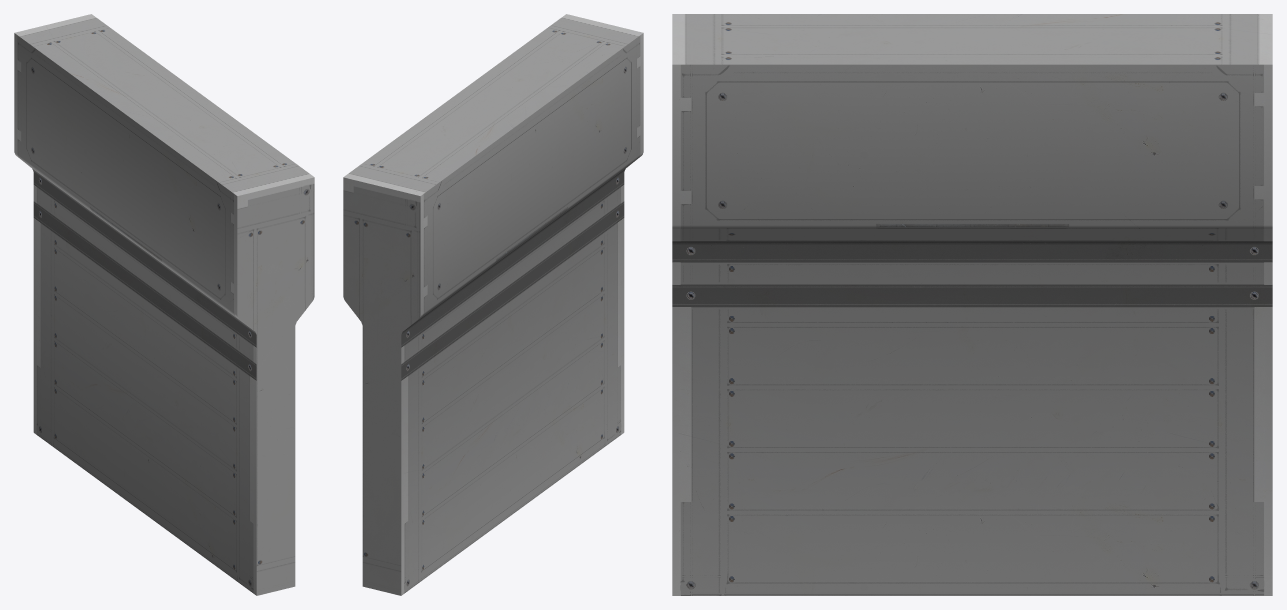
File: SM_Walltype2.fbx
3 views of the same model, side by side, from view 1: azimuth 30°, elevation 25°; view 2: azimuth 150°, elevation 25°; view 3: azimuth 270°, elevation 25° (orthographic). The views are drawn at different scales.
Visible parts, largest first — view 1: SM_Walltype2_LOD0; view 2: SM_Walltype2_LOD0; view 3: SM_Walltype2_LOD0.
Part boxes in pixels (x1,y1,x2,y2): SM_Walltype2_LOD0: (14, 14, 314, 595); SM_Walltype2_LOD0: (343, 14, 643, 595); SM_Walltype2_LOD0: (672, 14, 1272, 595).
Bounding box in the file's own units: 80 × 400 × 400.
1 material, 1 textured.
